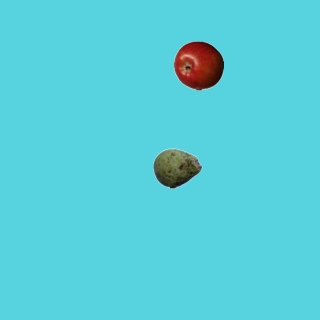Apple Braeburn: (173, 40, 223, 90)
Pear Stone: (152, 143, 202, 193)
